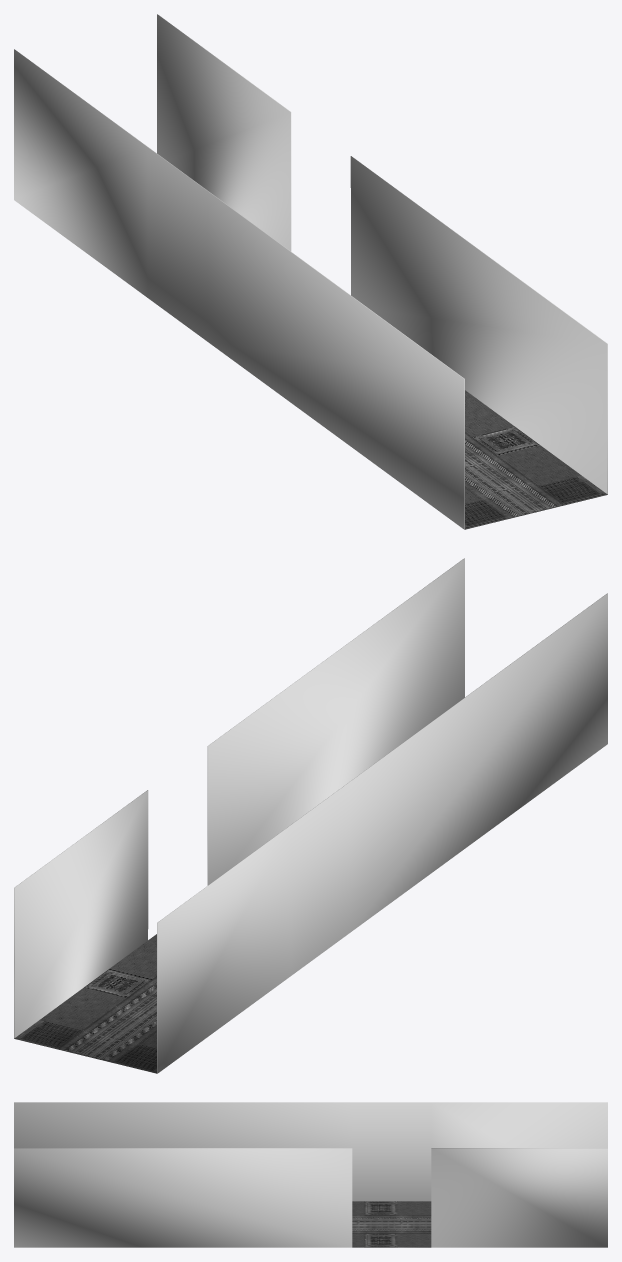
The model's file is corredor_c1_sala.fbx.
The picture shows the model from 3 angles, top to bottom: view 1: azimuth 30°, elevation 25°; view 2: azimuth 150°, elevation 25°; view 3: azimuth 270°, elevation 25°; orthographic projection. The views are drawn at different scales.
Visible parts, largest first — view 1: Corredor C1; view 2: Corredor C1; view 3: Corredor C1.
Boxes of the visible parts, left/top/right/bottom form: Corredor C1: left=14, top=14, right=607, bottom=529; Corredor C1: left=14, top=558, right=607, bottom=1073; Corredor C1: left=14, top=1102, right=607, bottom=1247.
Bounding box in the file's own units: 437 × 439 × 2375.
